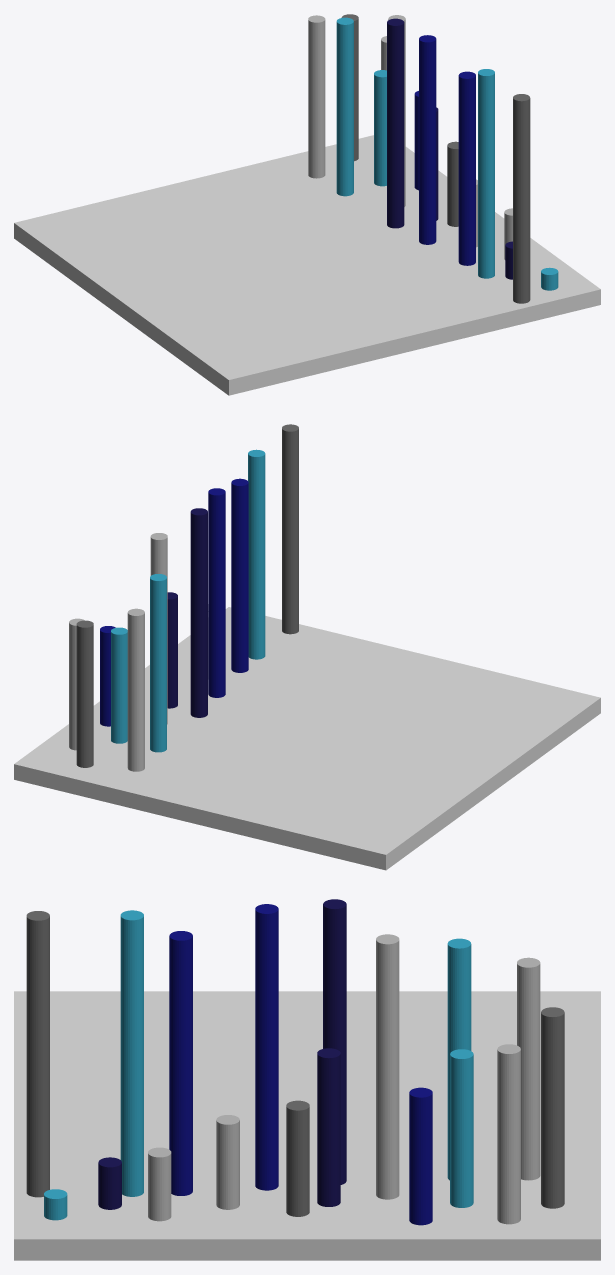
File: Sharkour Course.glb
3 renders of one model, top to bottom at view 1: azimuth 30°, elevation 25°; view 2: azimuth 150°, elevation 25°; view 3: azimuth 270°, elevation 25°, orthographic. The views are drawn at different scales.
Visible parts, largest first — view 1: Ground, Posts; view 2: Ground, Posts; view 3: Ground, Posts.
Part boxes in pixels (left/top/right/bottom): Ground: left=14, top=135, right=600, bottom=395; Posts: left=308, top=14, right=558, bottom=303; Ground: left=14, top=607, right=600, bottom=870; Posts: left=69, top=424, right=298, bottom=771; Ground: left=14, top=991, right=600, bottom=1260; Posts: left=26, top=899, right=564, bottom=1225.
Size of what is drawn, in the model's own units: 7.62 by 4.27 by 7.62.
